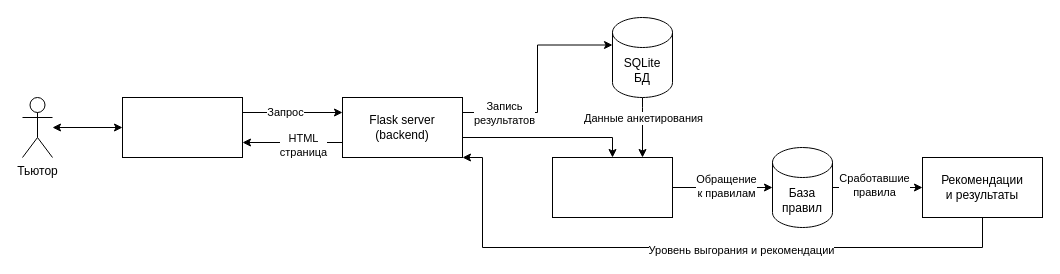
Some shapes in this 1060 by 274 pixel diagram are drawn without their labels. Here are the shapes that lost their labels. From the top down, the centre of each, then its label:
At point 182,127: "Браузер (frontend)".
At point 612,187: "Inference Engine".
